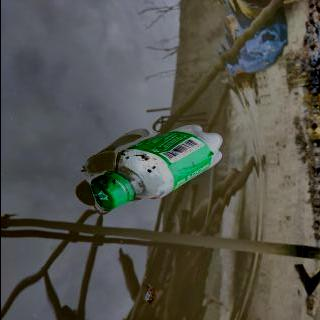bottle: (87, 124, 223, 210)
